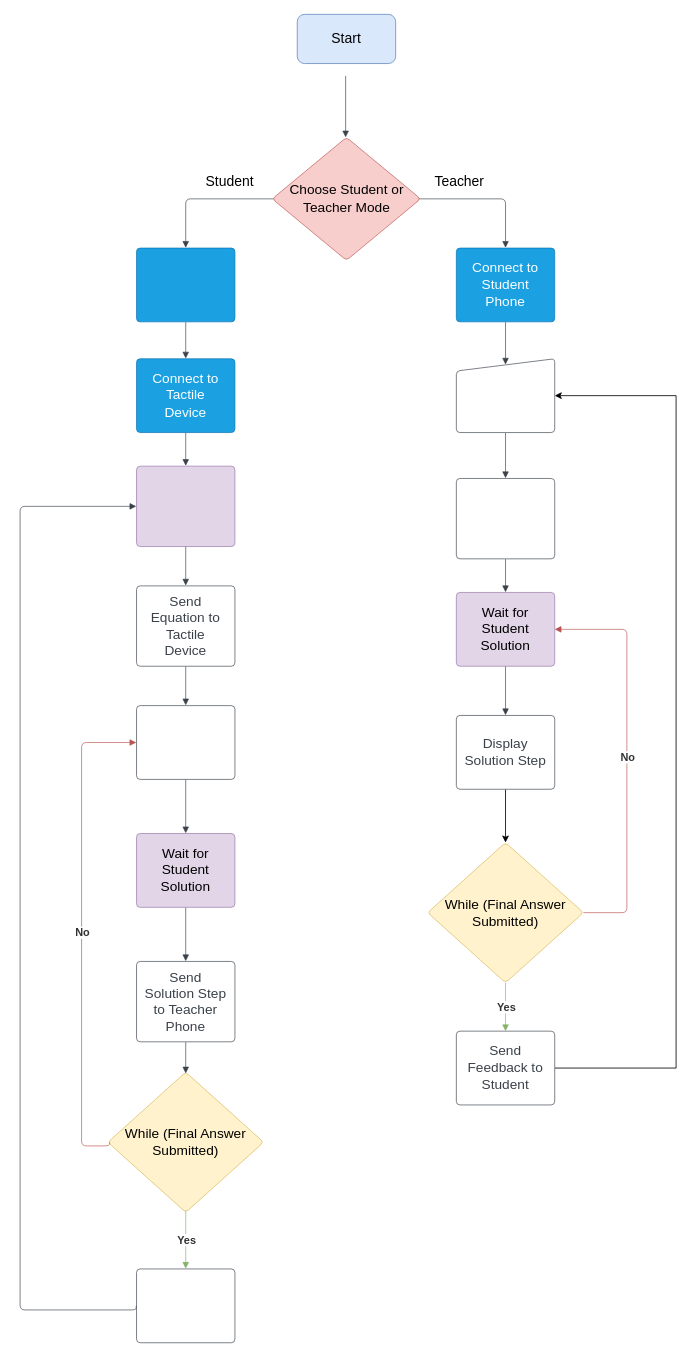
The diagram is 697 pixels wide and 1357 high, and some of its shapes have lost their labels. Here are the shapes that lost their labels. From the top down, the centre of each, then its label:
point (185, 284): Connect to Teacher Phone
point (505, 395): Write Algebraic Equation
point (185, 505): Wait for Question from Teacher Phone
point (505, 518): Send Equation to Student Phone
point (185, 742): Verbalize Equation to Student
point (185, 1305): Recieve Feedback
